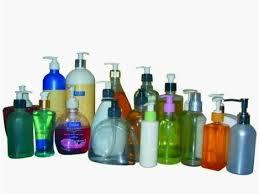Container for household chemicals: (1, 45, 256, 181)
